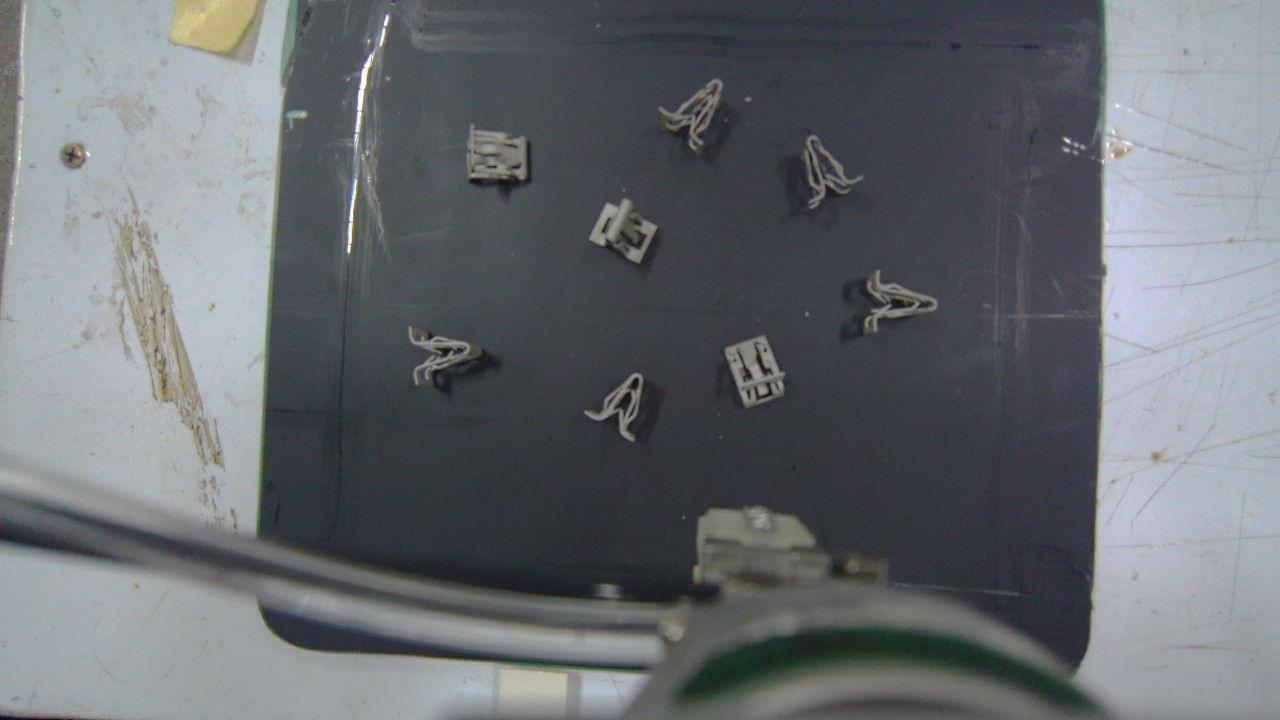ng: (656, 81, 727, 154), (866, 268, 941, 337), (583, 370, 645, 440), (409, 325, 480, 386), (727, 333, 785, 405), (804, 137, 860, 211), (465, 125, 529, 186)
pass: (588, 196, 659, 264)
